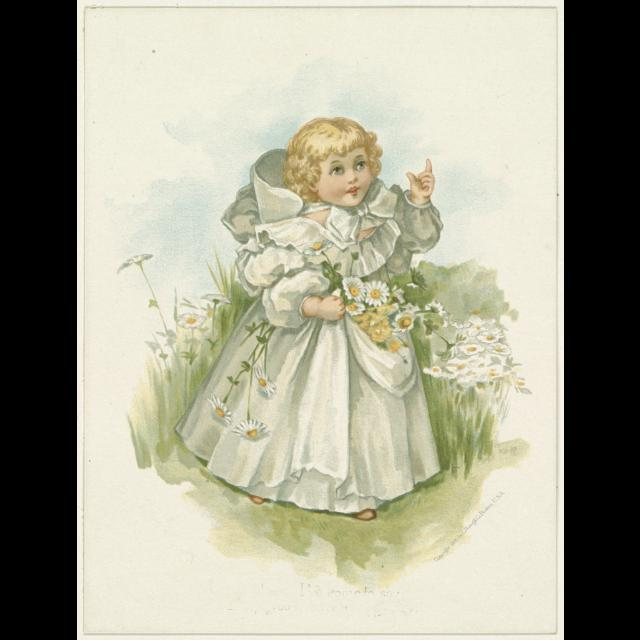Flower: (421, 319, 515, 381), (340, 272, 366, 306), (229, 420, 267, 442), (205, 399, 229, 426), (254, 366, 274, 398), (392, 312, 416, 338), (366, 280, 389, 306), (175, 313, 205, 325), (422, 306, 444, 318)
